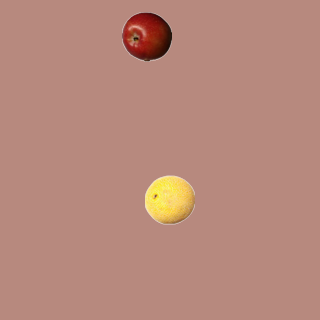Apple Braeburn: (121, 11, 171, 61)
Cantaloupe 1: (144, 174, 194, 224)
